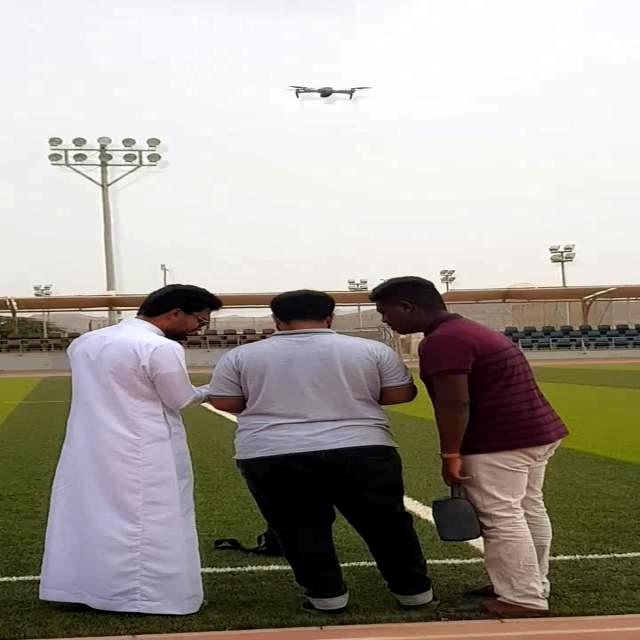drone: (281, 80, 375, 109)
